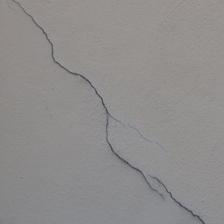Crack: (0, 106, 155, 165), (114, 170, 208, 224), (5, 90, 89, 136)
